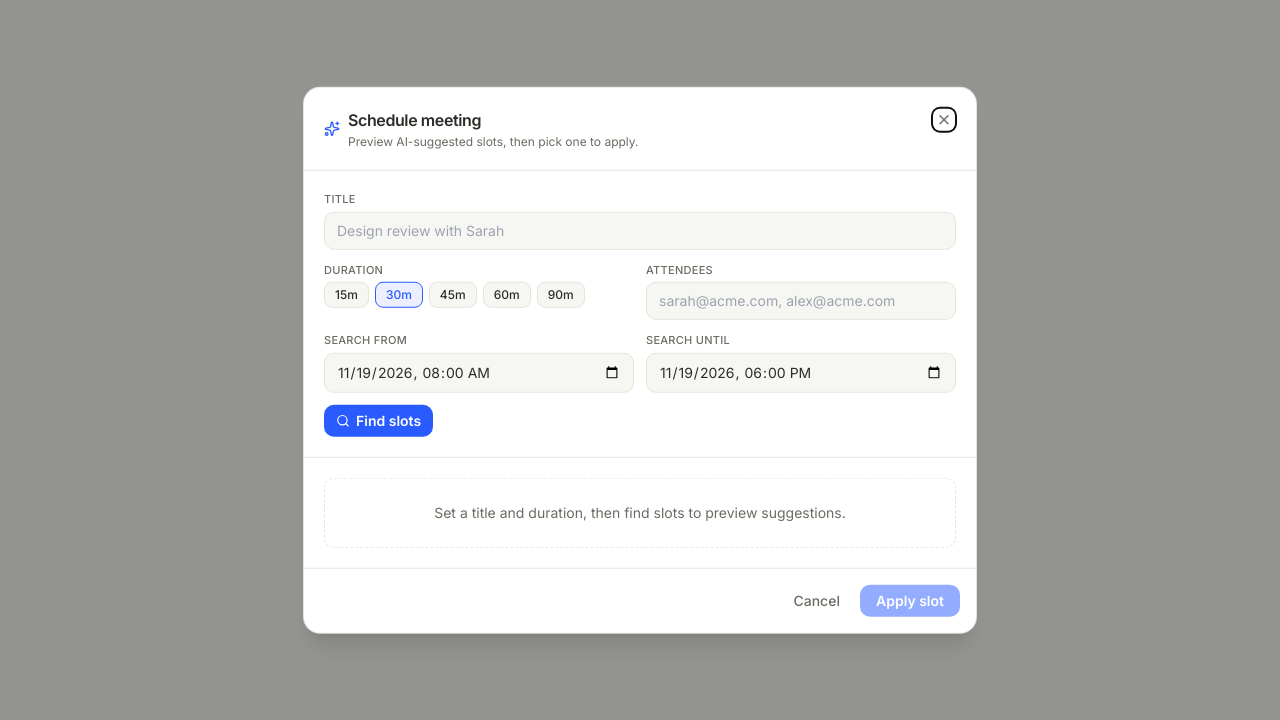
Test: PAC-92: the suggest failure in the Schedule meeting modal › the form's own validation is not an API failure
Click the button "Find slots".
click(379, 420)  # box left=324, top=404, right=433, bottom=436
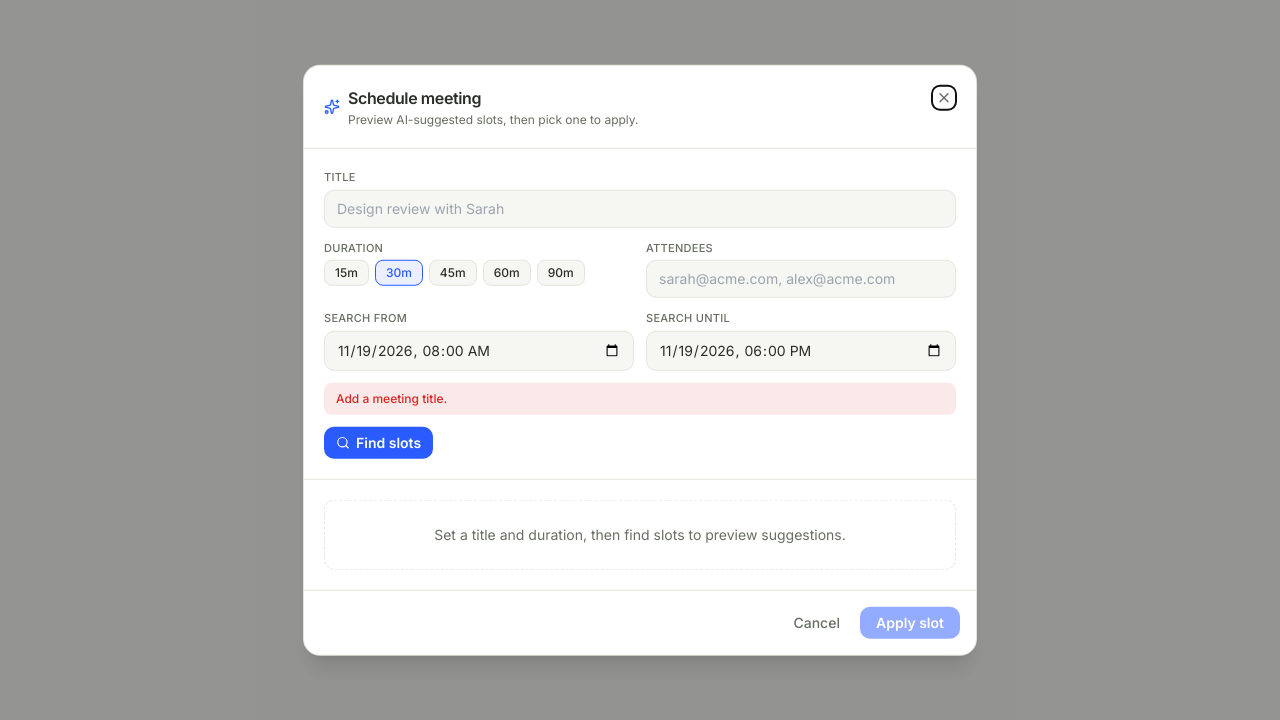
Expected: the text "Add a meeting title." is shown, left=324, top=382, right=956, bottom=414
